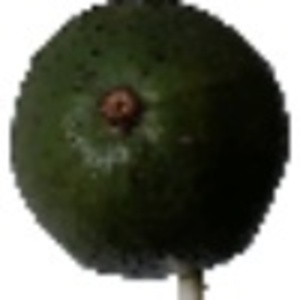abacate: (9, 4, 291, 280)
